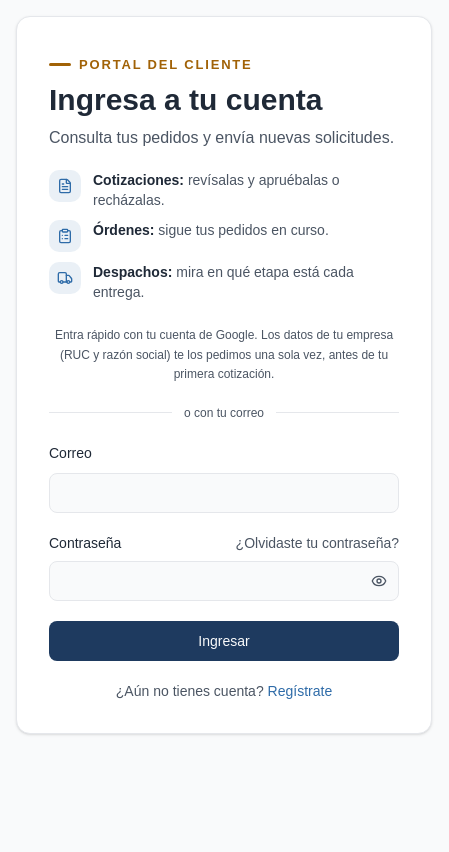
Test case: IngresoClientePage › rechaza una cuenta que no es de cliente
Step 1. Type "compras@minera.pe" into the field labelled "Correo" → [224, 493], box x1=49 y1=473 x2=399 y2=513
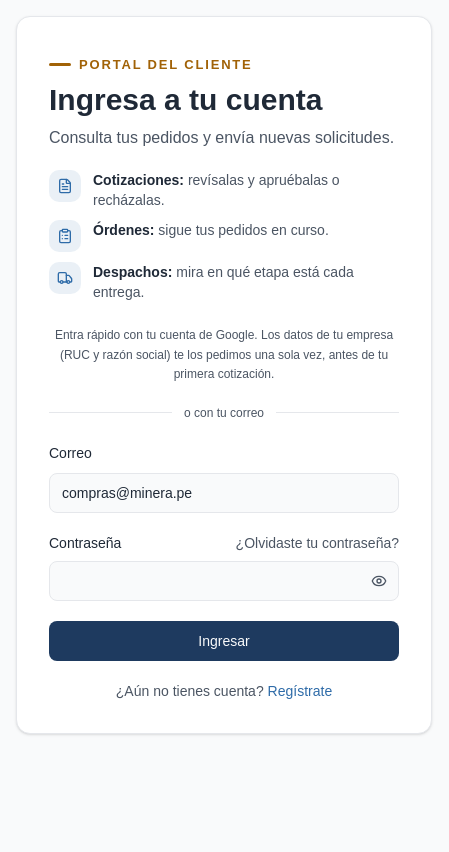
Step 2. Type "secreta123" into the password field labelled "Contraseña" → [224, 581], box x1=49 y1=561 x2=399 y2=601
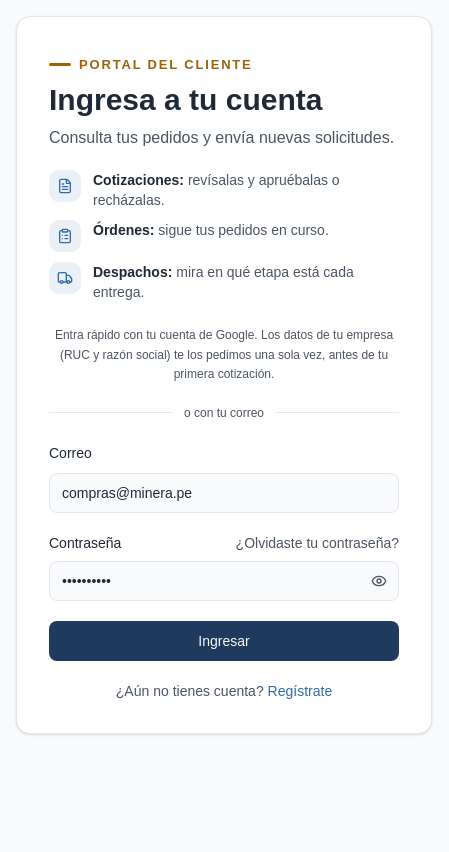
Step 3. Click the button "Ingresar" → [224, 641], box x1=49 y1=621 x2=399 y2=661
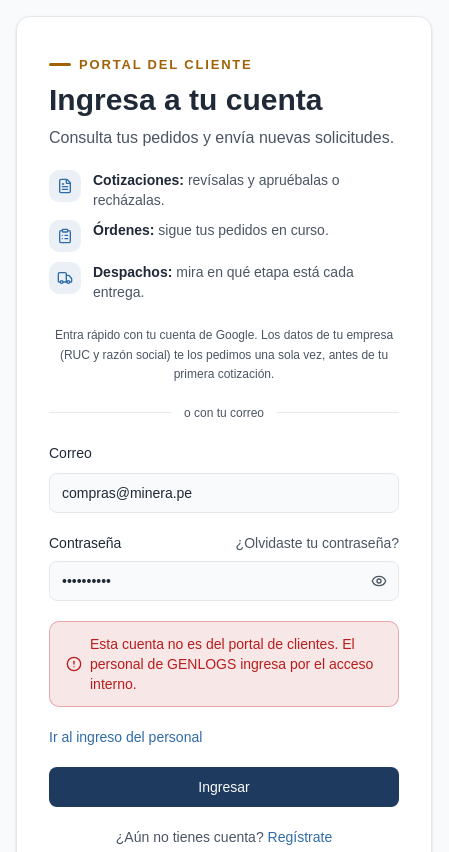
Result: the text "no es del portal de clientes" is shown at x1=90 y1=636 x2=373 y2=692
